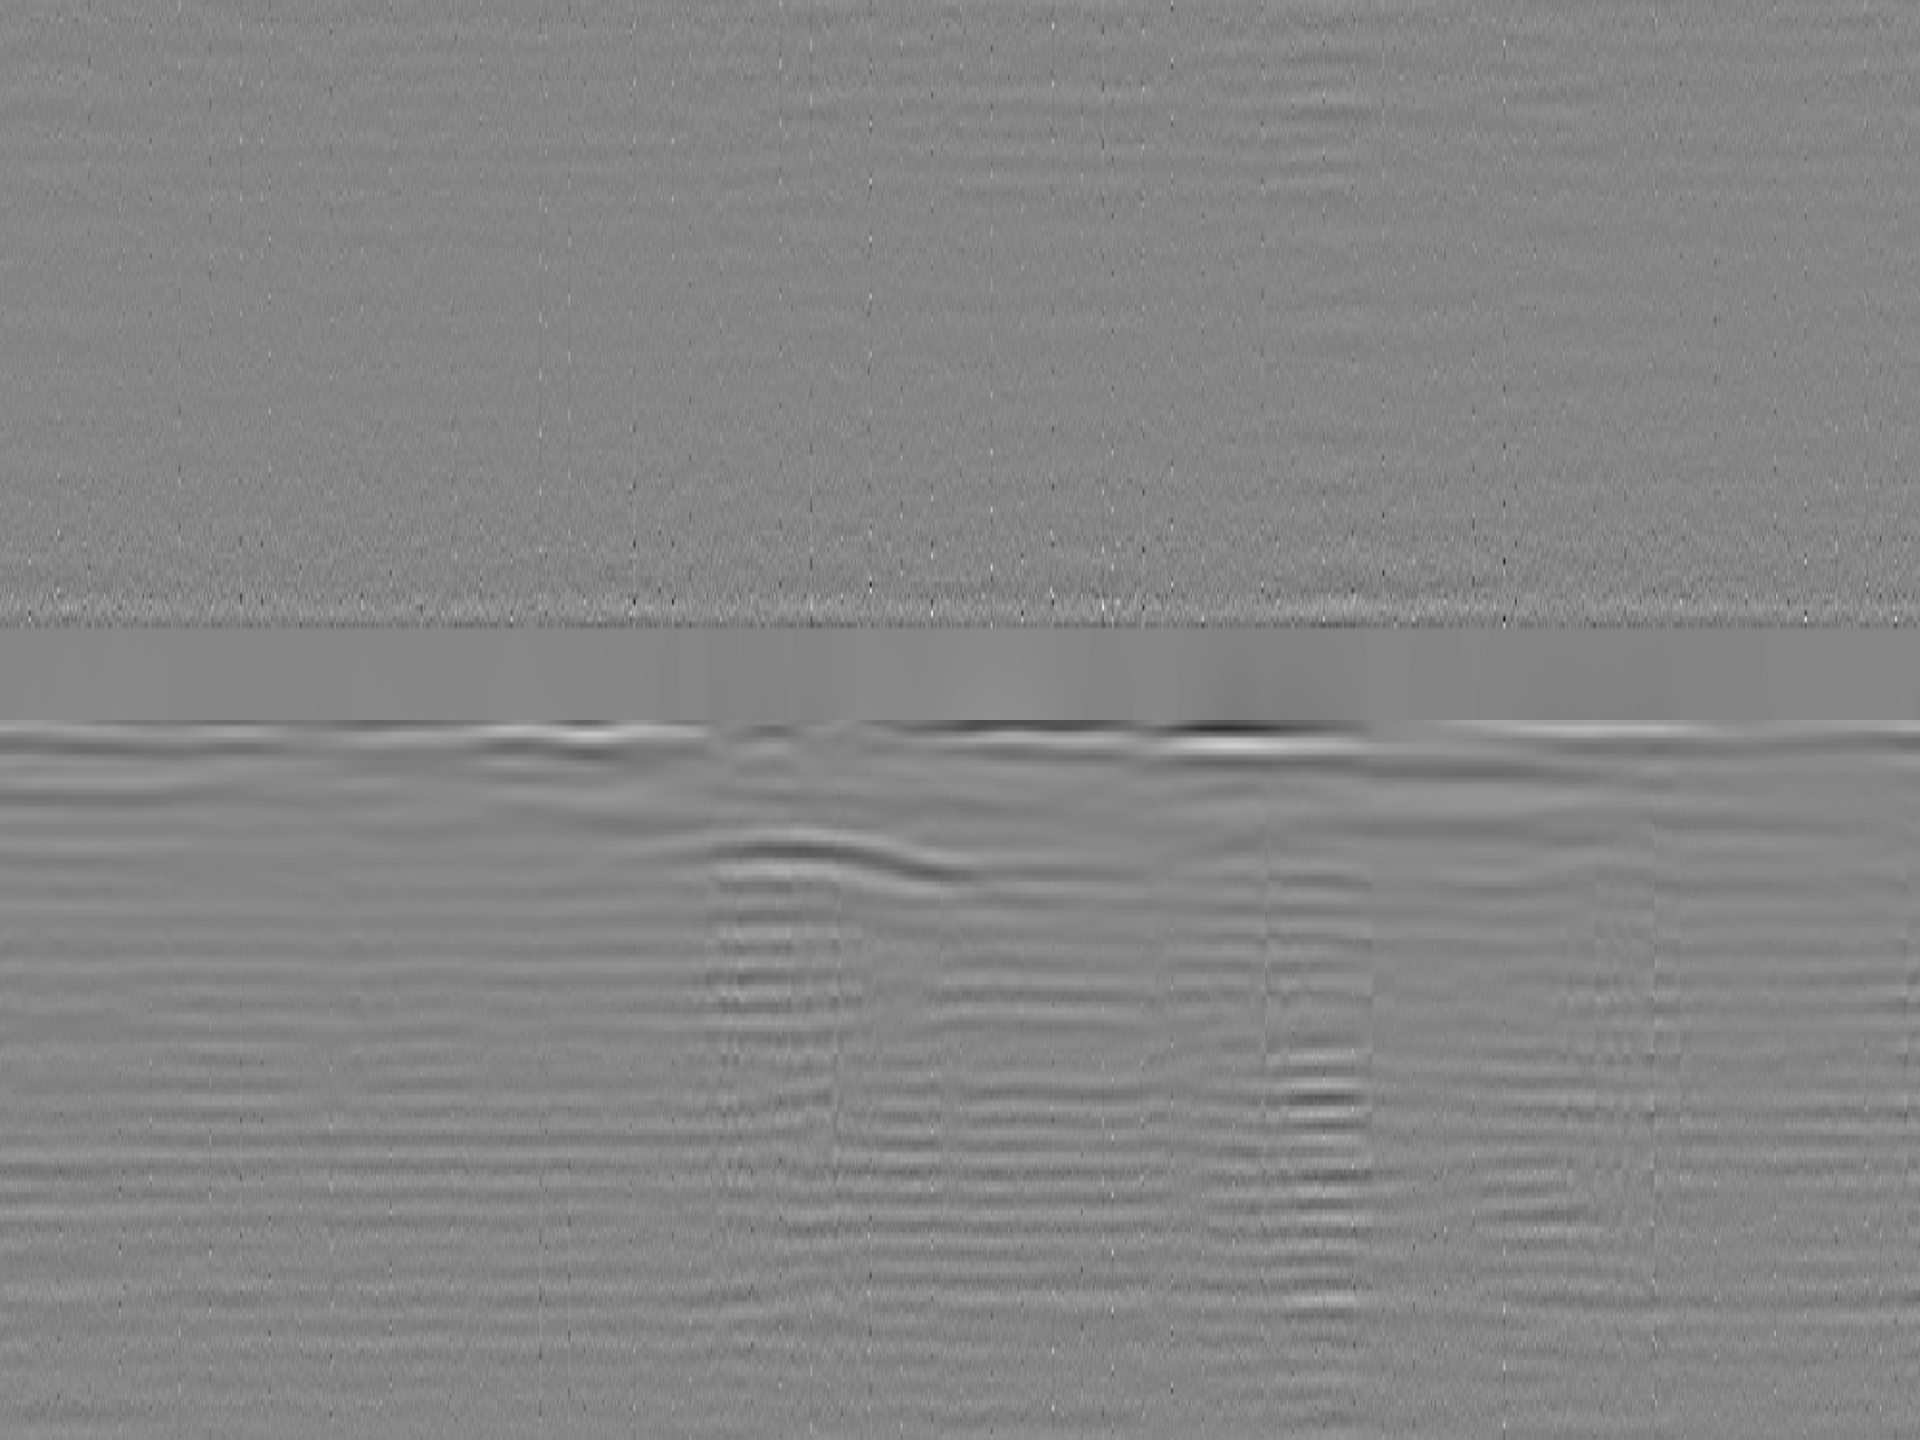Tunnel: (611, 826, 990, 889)
